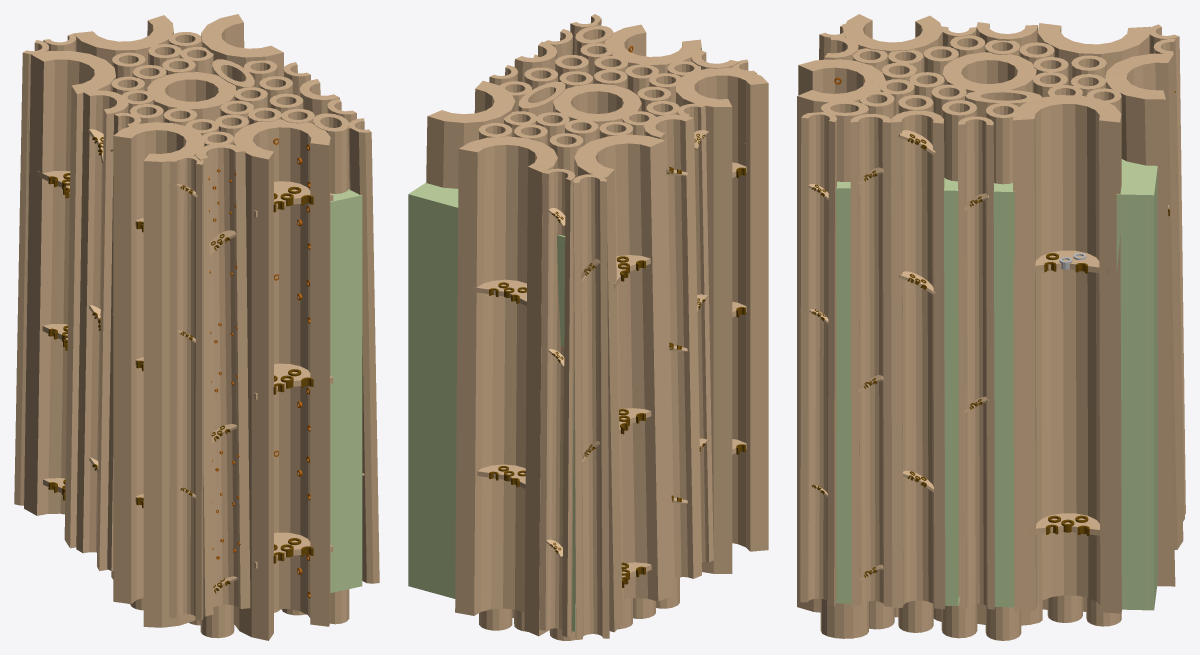
The model's file is Lop11_Hệ mô dẫn ở thực vật_Tab2_Mạch gỗ.glb.
The picture shows the model from 3 angles, left to right: view 1: azimuth 30°, elevation 25°; view 2: azimuth 150°, elevation 25°; view 3: azimuth 270°, elevation 25°; orthographic projection. The views are drawn at different scales.
Visible parts, largest first — view 1: New_Game_Object, New_Game_Object_mat0_0.001; view 2: New_Game_Object, New_Game_Object_mat0_0.001; view 3: New_Game_Object, New_Game_Object_mat0_0.001.
Boxes of the visible parts, left/top/right/bottom form: New_Game_Object: left=14, top=14, right=379, bottom=640; New_Game_Object_mat0_0.001: left=48, top=76, right=364, bottom=594; New_Game_Object: left=408, top=14, right=768, bottom=640; New_Game_Object_mat0_0.001: left=552, top=46, right=746, bottom=629; New_Game_Object: left=797, top=14, right=1185, bottom=640; New_Game_Object_mat0_0.001: left=811, top=22, right=1175, bottom=577.
Size of the model in its own units: 0.7218 by 1.52 by 1.02.
